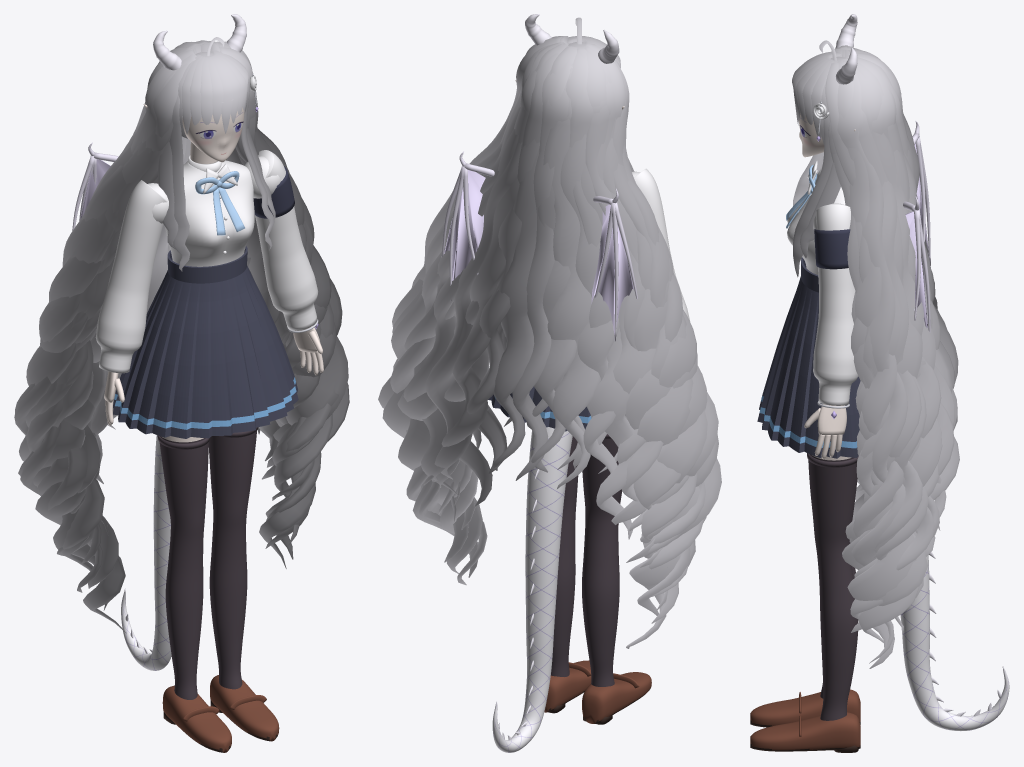
The model's file is chatgpt_uniform.glb.
3 renders of one model, left to right at view 1: azimuth 30°, elevation 25°; view 2: azimuth 150°, elevation 25°; view 3: azimuth 270°, elevation 25°, orthographic. The views are drawn at different scales.
Visible parts, largest first — view 1: Hair, Skirt, Legs, Sleeves, Torso, Shoes, Tail, CollarBow, Head, Hands, Wings, Horns; view 2: Hair, Legs, Tail, Wings, Shoes, Sleeves, Horns, Skirt; view 3: Hair, Legs, Skirt, Sleeves, Shoes, Tail, Wings, Hands, Horns, Torso, Head, CollarBow.
Part boxes in pixels (bbox=[...]): Hair: bbox=[14, 37, 349, 633]; Skirt: bbox=[113, 246, 298, 438]; Legs: bbox=[157, 427, 258, 699]; Sleeves: bbox=[95, 150, 318, 373]; Torso: bbox=[165, 142, 254, 266]; Shoes: bbox=[162, 675, 279, 752]; Tail: bbox=[121, 435, 171, 670]; CollarBow: bbox=[188, 155, 244, 235]; Head: bbox=[182, 107, 244, 162]; Hands: bbox=[104, 319, 323, 425]; Wings: bbox=[72, 142, 118, 230]; Horns: bbox=[153, 14, 246, 70]; Hair: bbox=[378, 17, 721, 648]; Legs: bbox=[551, 434, 622, 686]; Tail: bbox=[492, 427, 572, 752]; Wings: bbox=[441, 151, 637, 341]; Shoes: bbox=[544, 660, 651, 724]; Sleeves: bbox=[632, 168, 690, 321]; Horns: bbox=[525, 14, 619, 63]; Skirt: bbox=[488, 386, 591, 431]; Hair: bbox=[792, 40, 959, 668]; Legs: bbox=[807, 453, 858, 720]; Skirt: bbox=[757, 257, 860, 458]; Sleeves: bbox=[813, 166, 858, 405]; Shoes: bbox=[750, 689, 860, 752]; Tail: bbox=[900, 550, 1009, 731]; Wings: bbox=[903, 121, 930, 332]; Hands: bbox=[804, 401, 849, 459]; Horns: bbox=[835, 14, 857, 84]; Torso: bbox=[787, 174, 845, 274]; Head: bbox=[798, 113, 824, 157]; CollarBow: bbox=[786, 160, 817, 228].
Size of the model in its own units: 0.8622 by 1.73 by 0.5781.
18 materials, 2 textured.
